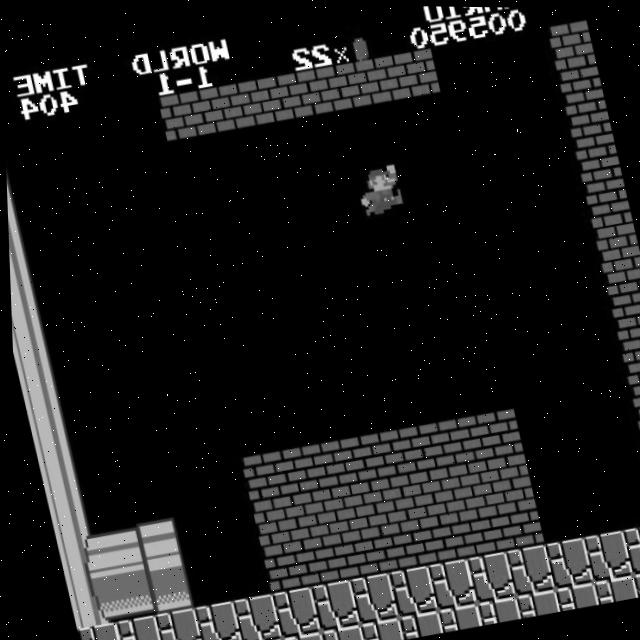1- brick_block: (481, 452, 532, 506), (351, 54, 402, 108), (373, 518, 424, 572), (156, 90, 207, 144), (452, 504, 503, 557), (273, 69, 324, 122), (195, 83, 246, 136), (275, 443, 326, 496), (295, 533, 346, 586), (391, 47, 441, 101), (442, 459, 492, 513), (313, 61, 363, 115), (403, 466, 453, 520), (413, 511, 463, 565), (335, 525, 385, 579), (547, 18, 597, 71), (557, 63, 607, 116), (577, 153, 627, 206), (587, 198, 637, 251), (471, 407, 521, 460), (491, 497, 541, 550), (432, 414, 482, 467), (393, 421, 443, 474), (354, 428, 404, 481), (364, 474, 414, 527), (235, 76, 285, 129), (315, 436, 365, 489), (325, 481, 375, 534), (286, 488, 336, 541), (237, 450, 287, 503), (247, 495, 297, 548), (257, 540, 307, 593), (567, 109, 617, 161), (597, 243, 640, 296), (607, 287, 640, 340), (617, 332, 640, 385), (627, 377, 640, 429), (637, 423, 640, 475)
11- little_mario: (352, 160, 406, 216)
14- pipe: (90, 523, 141, 577), (21, 395, 72, 449), (101, 568, 151, 622), (32, 440, 82, 494), (62, 575, 112, 629), (42, 485, 92, 538), (12, 351, 62, 403), (52, 531, 102, 583), (9, 305, 51, 358), (8, 260, 42, 313), (6, 216, 32, 268), (5, 171, 21, 223)
15- pipe_head: (129, 516, 180, 570), (139, 561, 190, 615)
17- undestructible_block: (423, 556, 474, 610), (579, 528, 630, 581), (501, 542, 552, 595), (344, 571, 395, 624), (266, 585, 317, 638), (462, 549, 512, 603), (384, 563, 434, 617), (540, 535, 590, 588), (306, 578, 356, 631), (227, 591, 278, 640), (188, 599, 239, 640), (150, 607, 200, 640), (472, 594, 518, 625), (433, 601, 479, 632), (394, 608, 439, 639), (589, 573, 635, 603), (550, 580, 596, 610), (511, 587, 557, 617), (110, 613, 160, 640), (618, 520, 640, 573), (354, 615, 400, 640), (72, 620, 122, 640), (315, 622, 361, 640), (276, 630, 322, 640), (627, 565, 640, 595), (237, 637, 283, 640)
